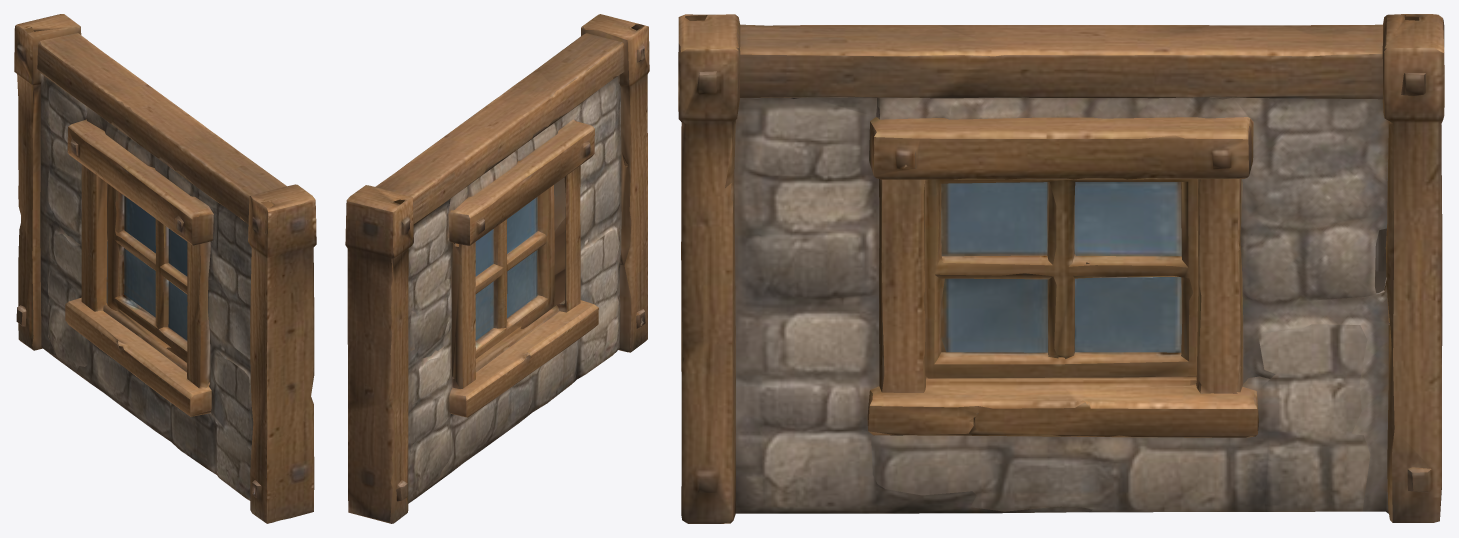
3 views of the same model, side by side, from view 1: azimuth 30°, elevation 25°; view 2: azimuth 150°, elevation 25°; view 3: azimuth 270°, elevation 25° (orthographic). The views are drawn at different scales.
Visible parts, largest first — view 1: geometry_0; view 2: geometry_0; view 3: geometry_0.
Boxes of the visible parts, x1=… form: geometry_0: x1=14, y1=14, x2=316, y2=523; geometry_0: x1=345, y1=14, x2=649, y2=523; geometry_0: x1=678, y1=14, x2=1444, y2=523.
Size of the model in its own units: 1.2 by 4.57 by 6.66.
1 material, 1 textured.
